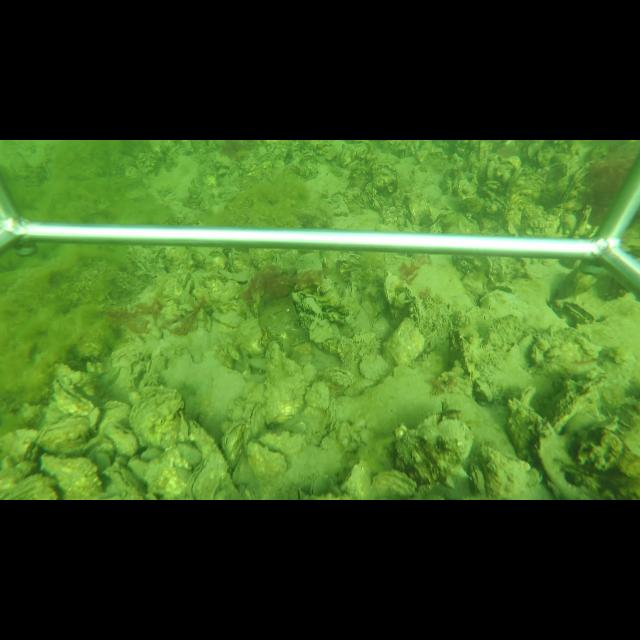Oyster-Closed: (264, 340, 307, 426), (128, 388, 184, 446), (27, 414, 94, 457), (41, 455, 106, 499), (186, 435, 230, 497), (385, 316, 429, 366), (53, 378, 98, 414), (247, 440, 289, 477), (101, 463, 143, 500), (424, 210, 482, 236), (358, 353, 393, 380), (468, 464, 487, 498), (382, 271, 399, 308), (246, 403, 263, 436), (303, 295, 322, 316)
Oyster-Open: (564, 304, 596, 327)
